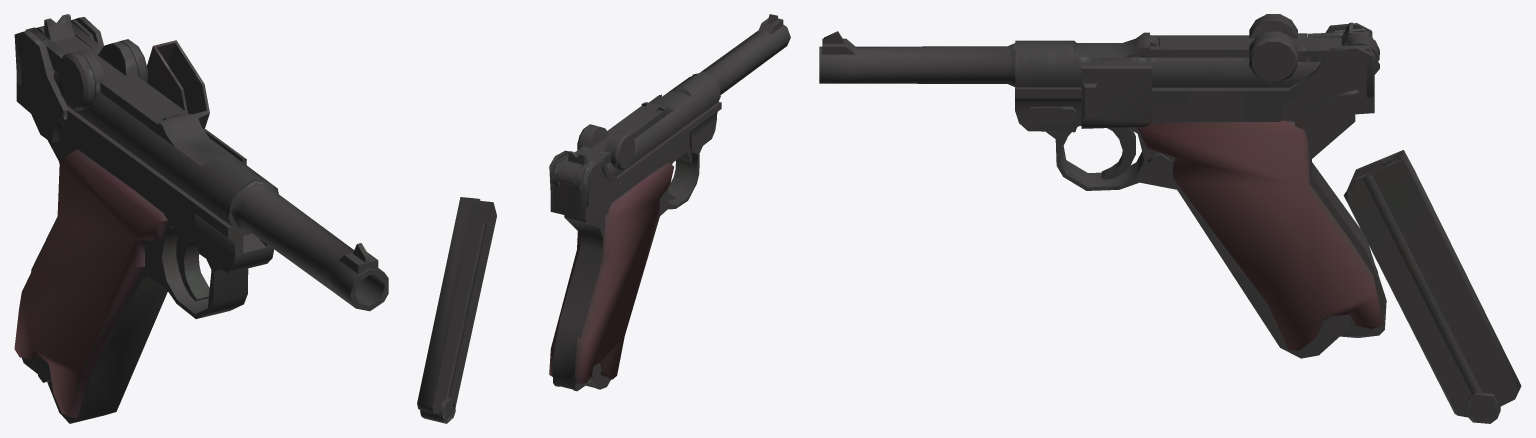
The model's file is 012_Luger_cc0_card.glb.
3 renders of one model, left to right at view 1: azimuth 30°, elevation 25°; view 2: azimuth 150°, elevation 25°; view 3: azimuth 270°, elevation 25°, orthographic. The views are drawn at different scales.
Parts seen in each view (by area): view 1: Body, Barrel, Slide, Part3, Clip, Part2, Part1, Trigger; view 2: Body, Clip, Slide, Barrel, Part3, Part2, Part1; view 3: Body, Clip, Barrel, Slide, Part3, Part2, Part1, Trigger.
Boxes of the visible parts, x1=… form: Body: x1=14, y1=17, x2=273, y2=423; Barrel: x1=231, y1=181, x2=388, y2=311; Slide: x1=53, y1=70, x2=278, y2=235; Part3: x1=36, y1=14, x2=147, y2=110; Clip: x1=147, y1=40, x2=209, y2=128; Part2: x1=94, y1=55, x2=189, y2=135; Part1: x1=158, y1=114, x2=235, y2=165; Trigger: x1=176, y1=231, x2=209, y2=301; Body: x1=549, y1=94, x2=721, y2=391; Clip: x1=417, y1=197, x2=496, y2=423; Slide: x1=607, y1=71, x2=720, y2=176; Barrel: x1=692, y1=14, x2=790, y2=94; Part3: x1=558, y1=124, x2=634, y2=185; Part2: x1=591, y1=106, x2=664, y2=150; Part1: x1=641, y1=91, x2=691, y2=116; Body: x1=1015, y1=23, x2=1386, y2=358; Clip: x1=1343, y1=150, x2=1521, y2=423; Barrel: x1=819, y1=31, x2=1015, y2=86; Slide: x1=1015, y1=40, x2=1320, y2=87; Part3: x1=1249, y1=14, x2=1379, y2=82; Part2: x1=1148, y1=35, x2=1300, y2=57; Part1: x1=1075, y1=32, x2=1158, y2=57; Trigger: x1=1060, y1=126, x2=1135, y2=179.
Size of the model in its own units: 0.0772 by 0.1539 by 0.2938.
1 material, 1 textured.
